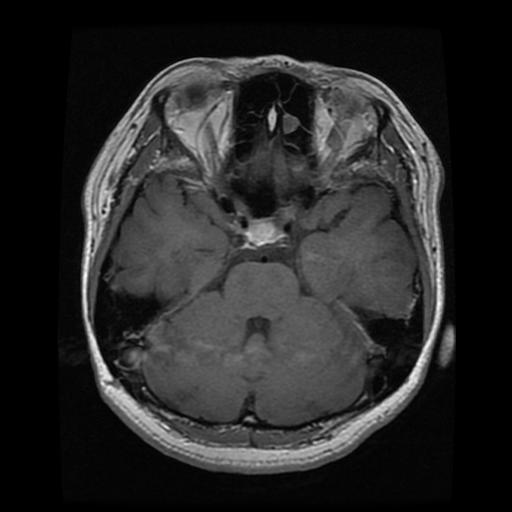Pituirity_tumour: (245, 220, 280, 242)
